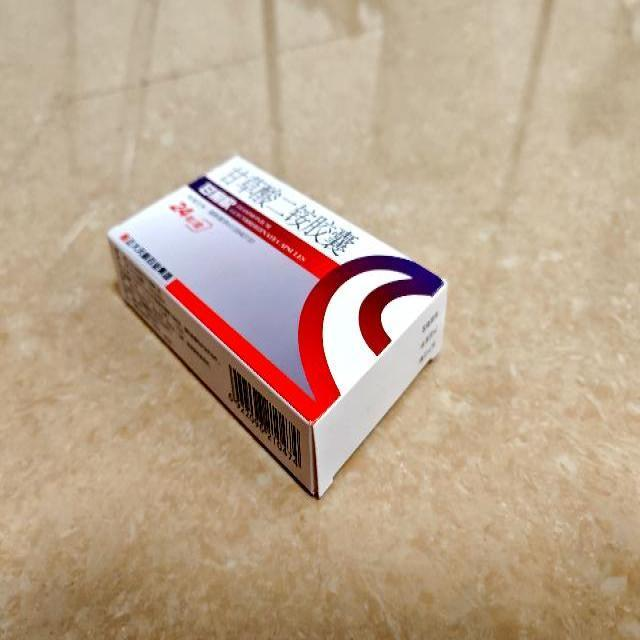box: (107, 154, 446, 496)
